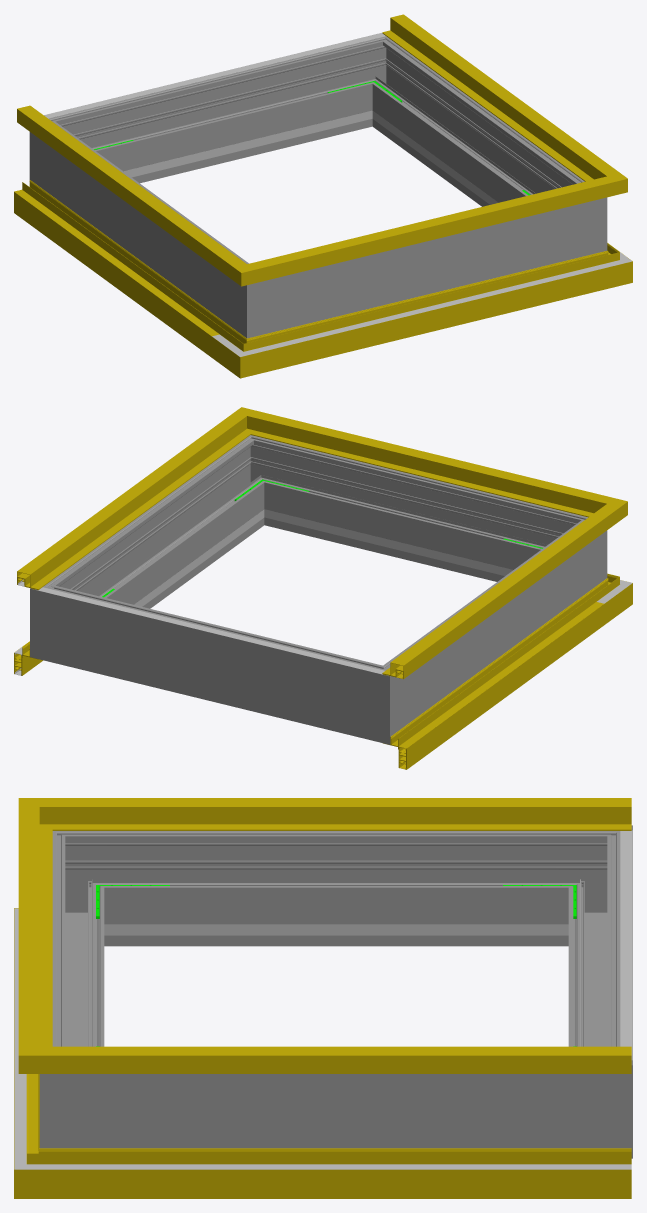
The picture shows the model from 3 angles, top to bottom: view 1: azimuth 30°, elevation 25°; view 2: azimuth 150°, elevation 25°; view 3: azimuth 270°, elevation 25°; orthographic projection. The views are drawn at different scales.
Visible parts, largest first — view 1: 3DGeom-277, 3DGeom-299, 3DGeom-298, 3DGeom-90, 3DGeom-269, 3DGeom-85, 3DGeom-128, 3DGeom-123, 3DGeom-118, 3DGeom-271, 3DGeom-285, 3DGeom-291 (+11 smaller); view 2: 3DGeom-299, 3DGeom-277, 3DGeom-298, 3DGeom-269, 3DGeom-85, 3DGeom-123, 3DGeom-128, 3DGeom-118, 3DGeom-279, 3DGeom-285, 3DGeom-291, 3DGeom-271 (+8 smaller); view 3: 3DGeom-269, 3DGeom-298, 3DGeom-97, 3DGeom-118, 3DGeom-128, 3DGeom-277, 3DGeom-299, 3DGeom-123, 3DGeom-285, 3DGeom-291, 3DGeom-279, 3DGeom-271 (+11 smaller).
Boxes of the visible parts, <box> form: 3DGeom-277: <box>83,46,364,183</box>; 3DGeom-299: <box>296,209,557,326</box>; 3DGeom-298: <box>377,53,570,206</box>; 3DGeom-90: <box>280,258,583,366</box>; 3DGeom-269: <box>58,135,234,317</box>; 3DGeom-85: <box>14,180,227,357</box>; 3DGeom-128: <box>382,14,599,176</box>; 3DGeom-123: <box>283,185,578,274</box>; 3DGeom-118: <box>17,105,225,265</box>; 3DGeom-271: <box>218,253,296,338</box>; 3DGeom-285: <box>345,36,409,129</box>; 3DGeom-291: <box>558,171,607,262</box>; 3DGeom-299: <box>272,445,553,581</box>; 3DGeom-277: <box>79,593,349,732</box>; 3DGeom-298: <box>66,452,259,608</box>; 3DGeom-269: <box>402,534,578,715</box>; 3DGeom-85: <box>383,592,604,769</box>; 3DGeom-123: <box>278,419,578,511</box>; 3DGeom-128: <box>17,428,234,589</box>; 3DGeom-118: <box>382,519,599,679</box>; 3DGeom-279: <box>340,652,418,744</box>; 3DGeom-285: <box>30,570,87,668</box>; 3DGeom-291: <box>227,435,291,528</box>; 3DGeom-271: <box>534,509,607,598</box>; 3DGeom-269: <box>117,831,555,946</box>; 3DGeom-298: <box>117,1074,555,1148</box>; 3DGeom-97: <box>91,1148,631,1198</box>; 3DGeom-118: <box>96,798,631,830</box>; 3DGeom-128: <box>96,1046,631,1073</box>; 3DGeom-277: <box>568,858,632,1046</box>; 3DGeom-299: <box>52,858,104,1046</box>; 3DGeom-123: <box>18,830,52,1040</box>; 3DGeom-285: <box>555,1032,632,1158</box>; 3DGeom-291: <box>39,1032,116,1148</box>; 3DGeom-279: <box>555,825,632,946</box>; 3DGeom-271: <box>52,831,116,946</box>.
Size of the model in its own units: 1.22 by 0.3069 by 1.22.
